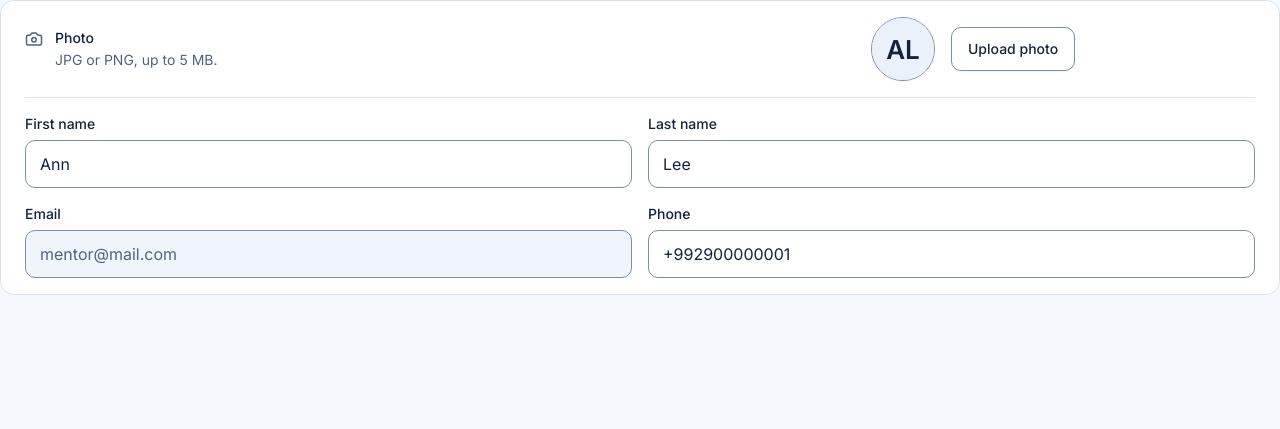
profile save errors › maps a 422 on first_name onto the name field
This screenshot has width=1280, height=429.
Replace the text in the field labelled "Phone" with "+992900000002" at (952, 254), box [648,230,1255,278]
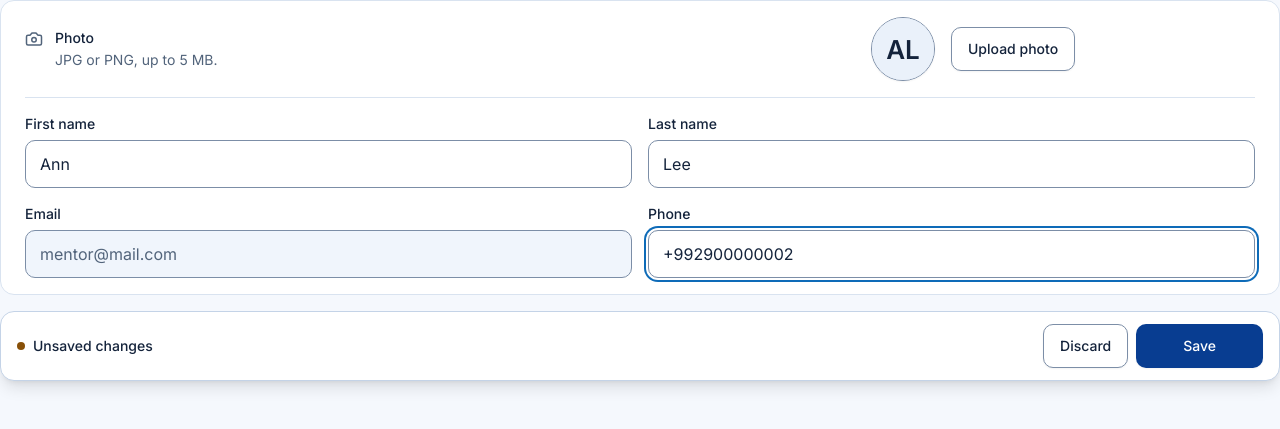
Click the button "Save" at (1200, 346), box [1136,324,1263,368]
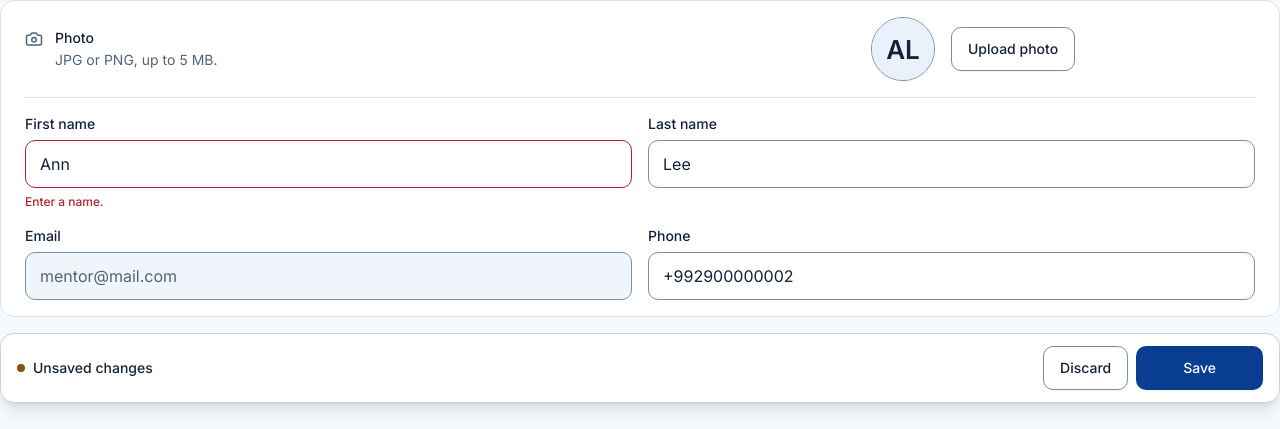
Check: the text "Enter a name." is shown, box [25,194,104,209]
